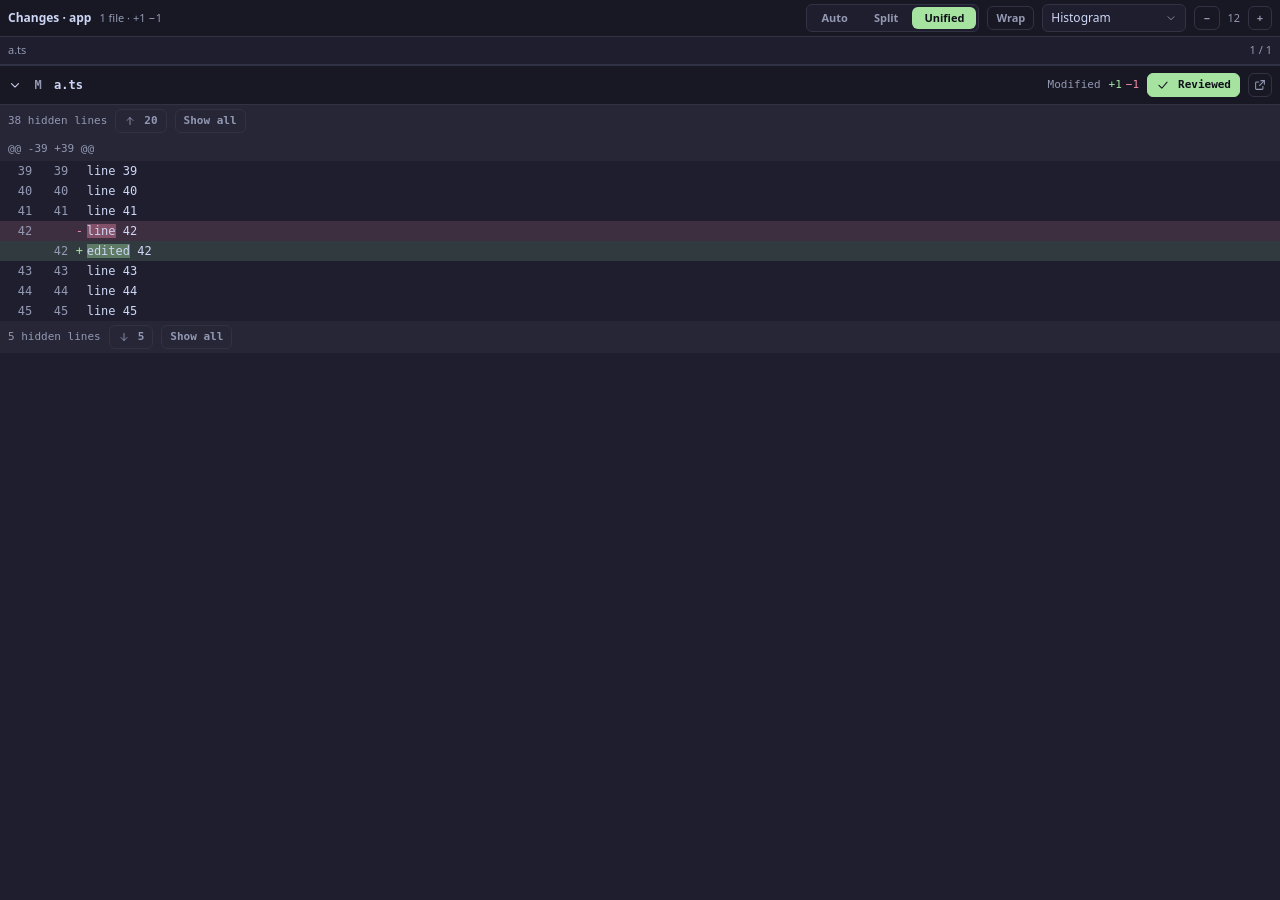
Test: A comment attaches to a line or a range on one side › a range on a phone: tap line 40, tap line 44, then Comment covers 40 to 44 of that side
Expected: the list with test id "review-list" is shown, 0,65 -> 1279,353
Press the mouse on the 2nd button with test id "review-no-new": point(61, 191) 54,184 -> 68,198
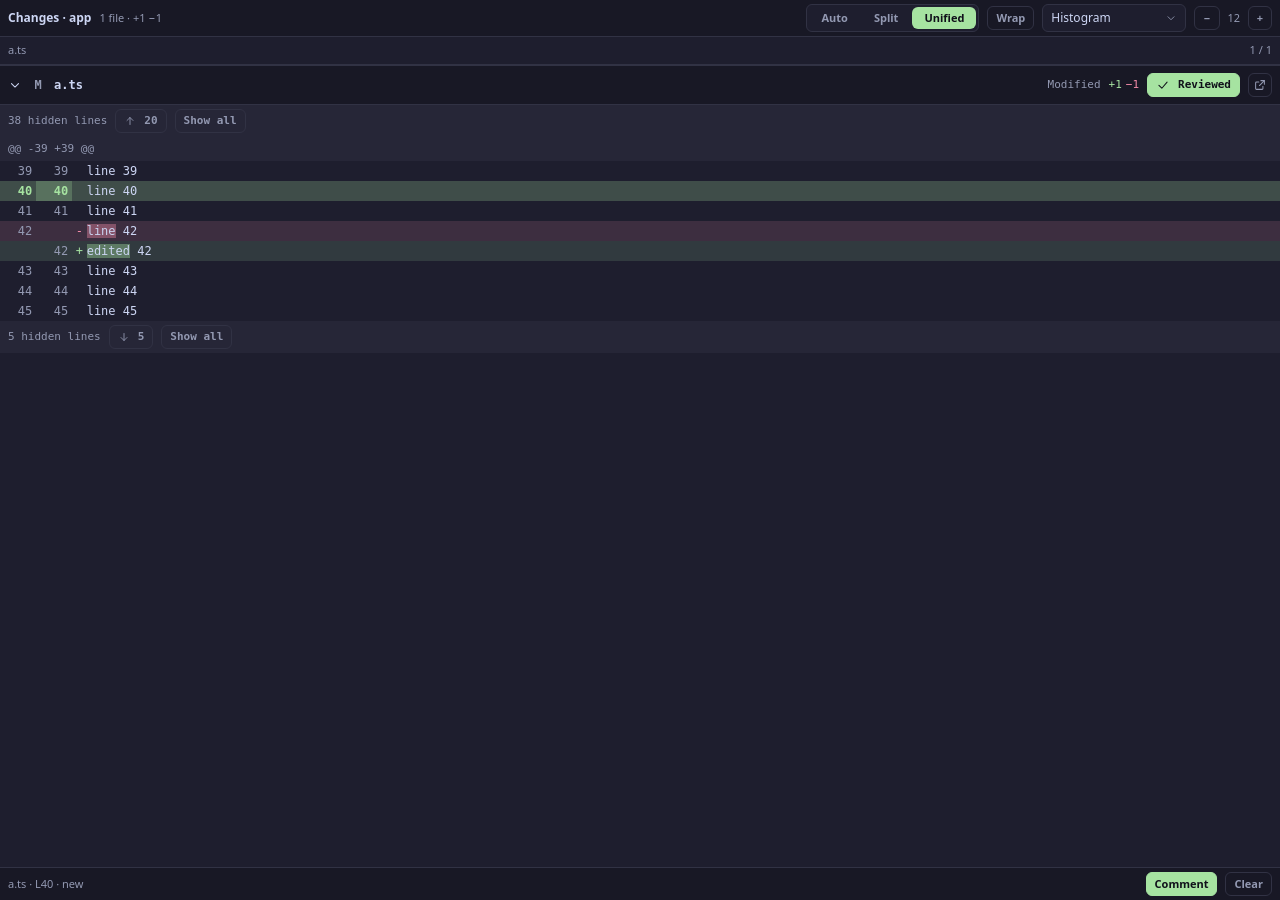
Expected: the text with test id "review-selection-text" shows "L40 · new", 35,876 -> 84,891
Press the mouse on the 7th button with test id "review-no-new": point(61, 291) 54,284 -> 68,298
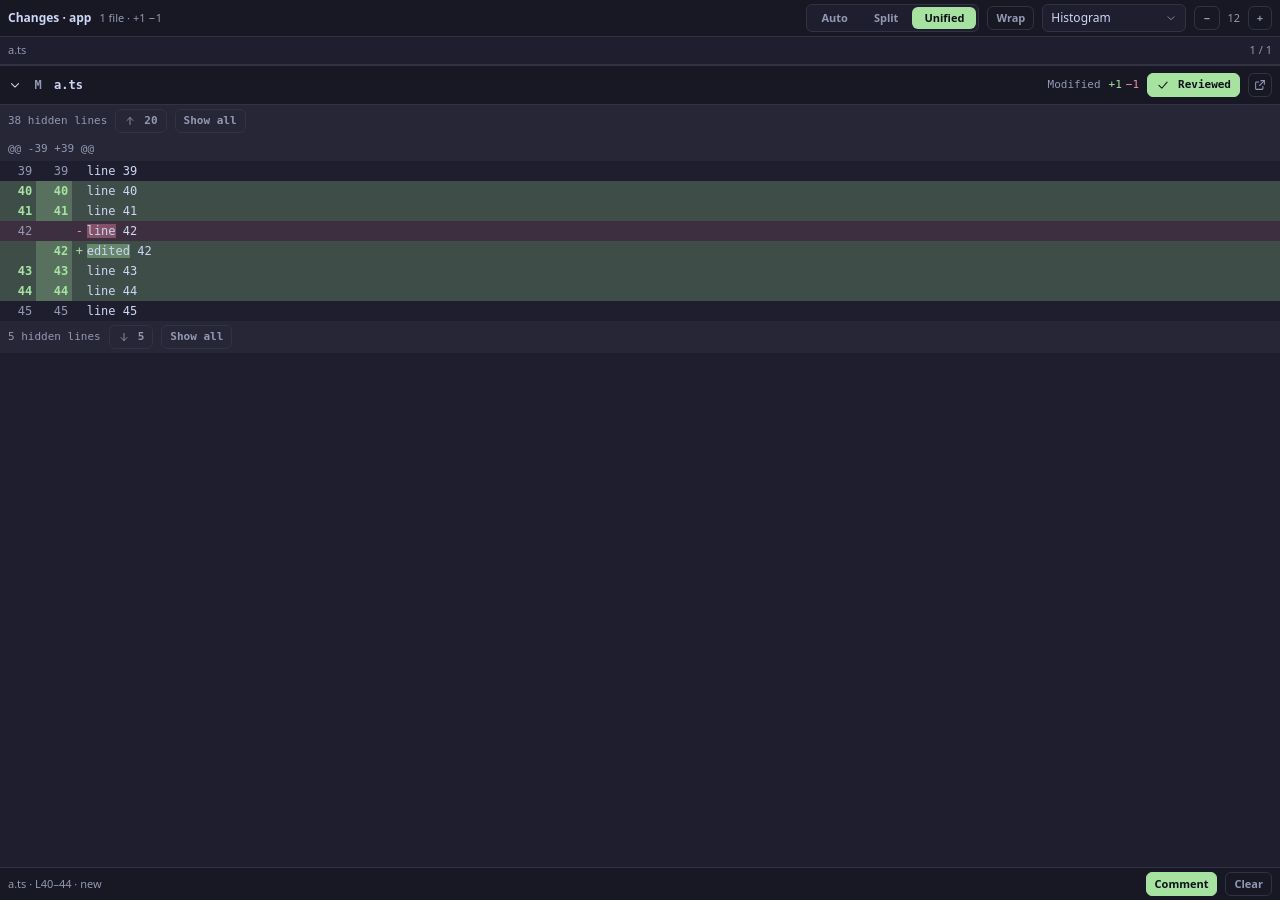
Expected: the text with test id "review-selection-text" shows "L40–44 · new", 35,876 -> 102,891
Click the button with test id "review-comment-start": point(1182, 884) 1146,872 -> 1218,896
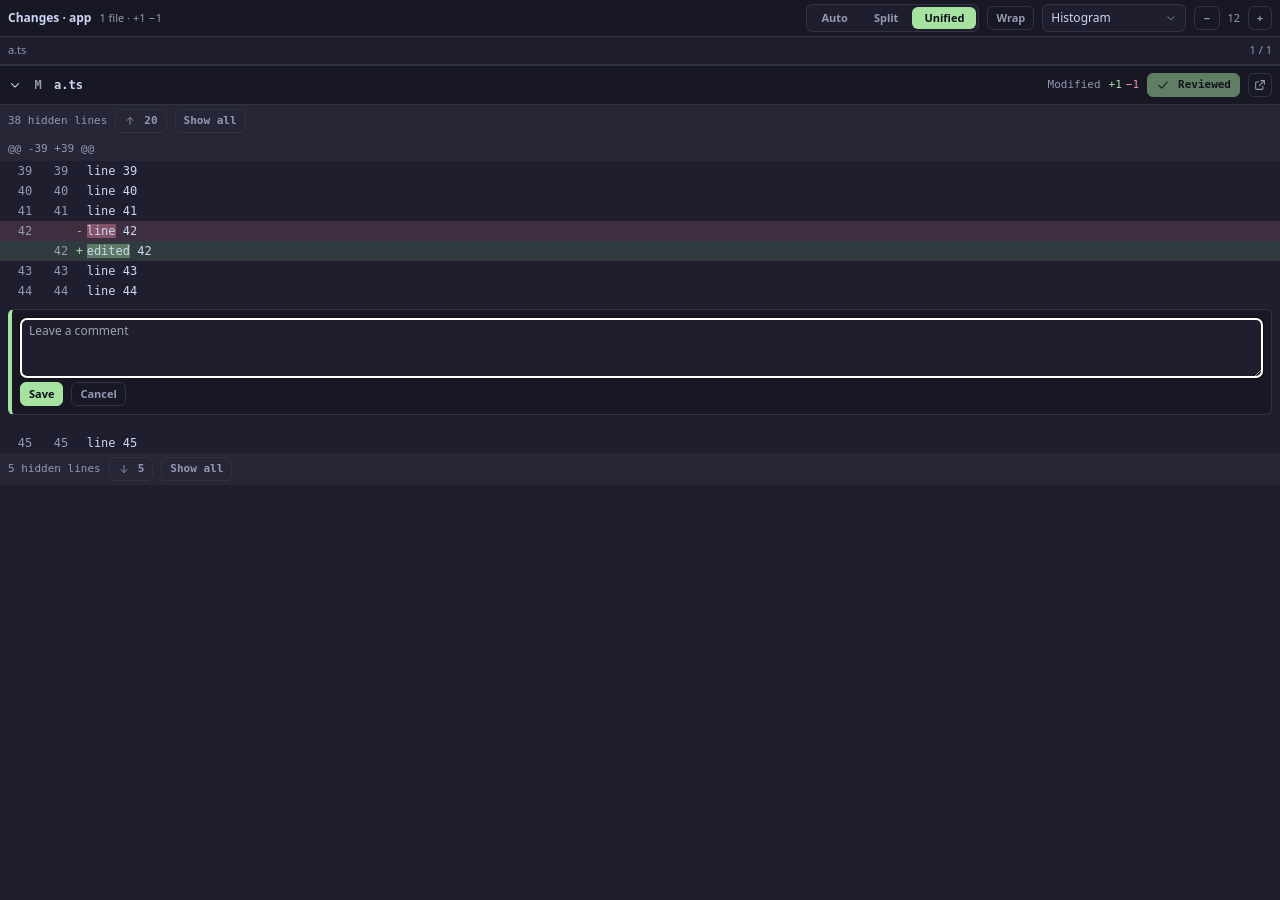
In the text box with test id "review-comment-input": point(642, 348) 20,318 -> 1263,378, type "this block"
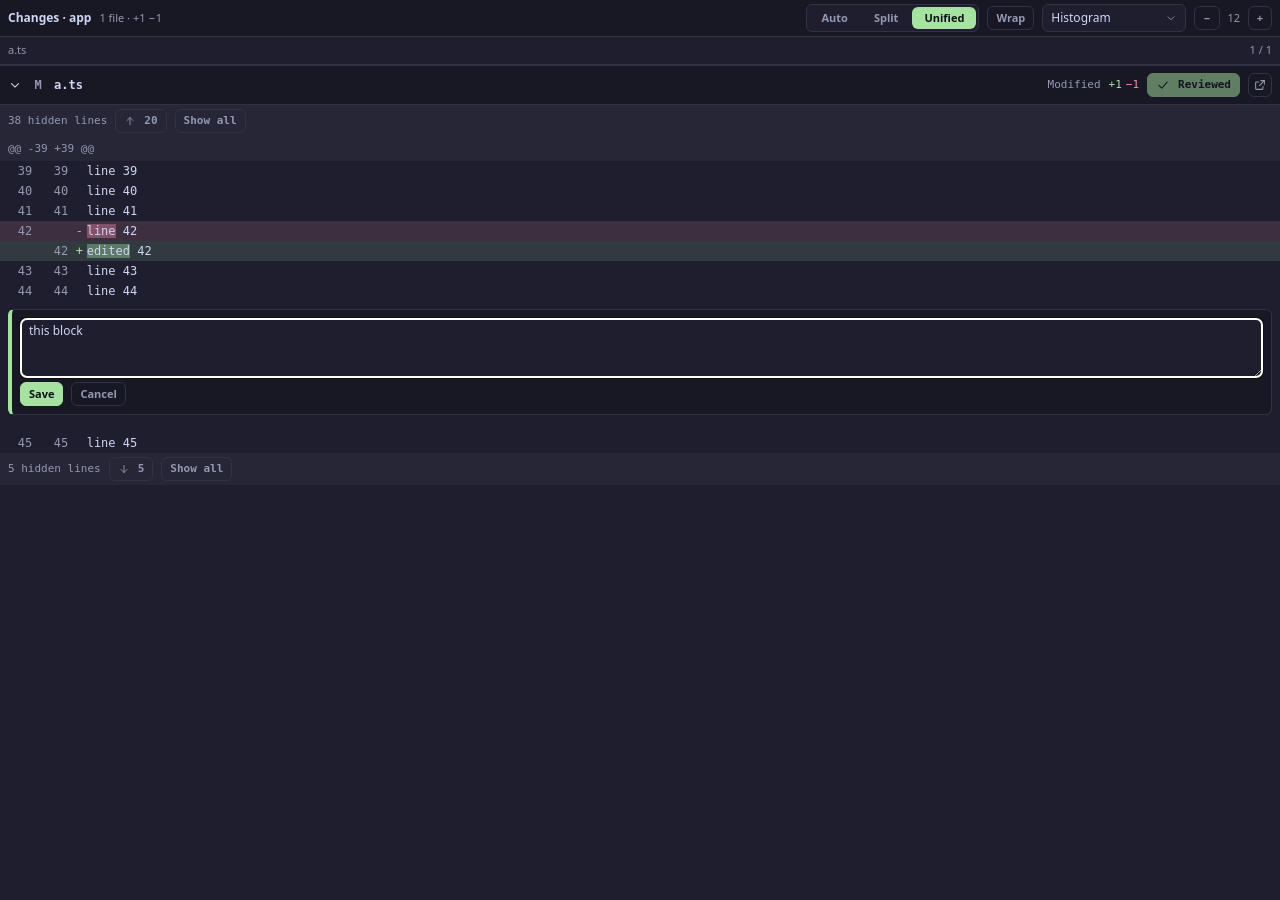
Click the button with test id "review-comment-save": point(42, 394) 20,382 -> 64,406
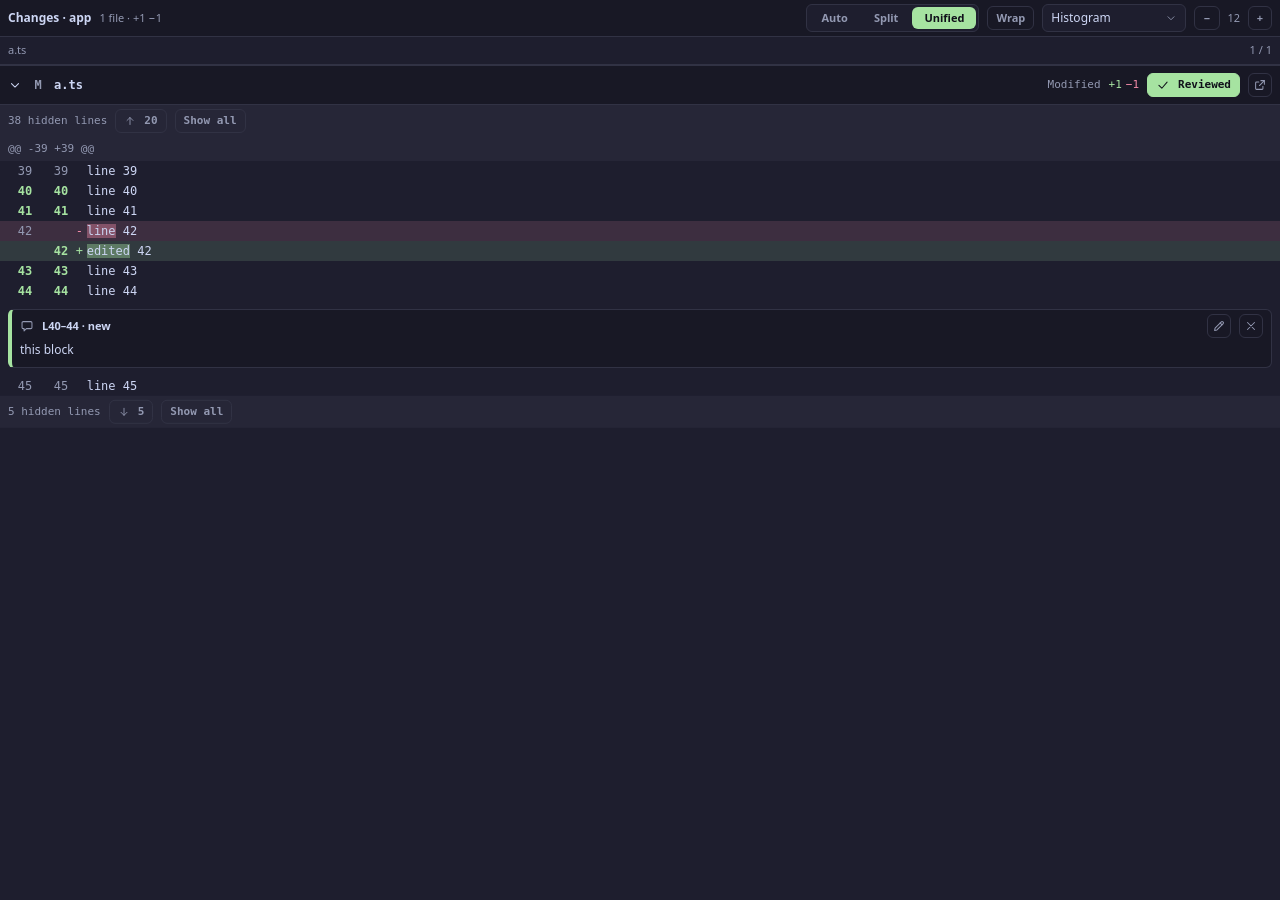
Expected: the text with test id "review-comment-range" shows "L40–44", 42,318 -> 79,333
